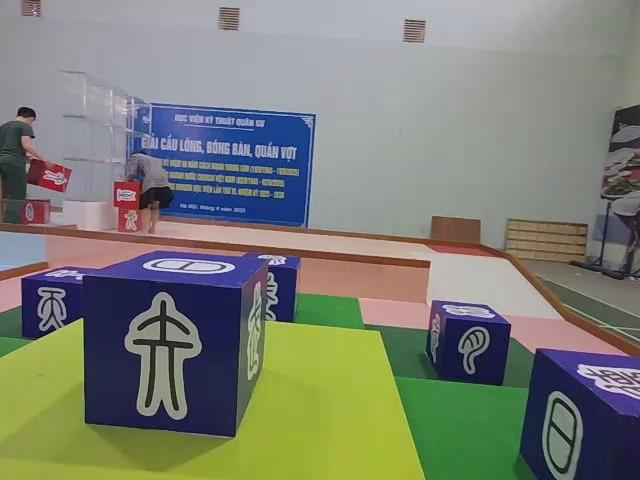R2 Fake Blue: (85, 250, 277, 441), (518, 349, 638, 480), (427, 300, 514, 386), (19, 261, 106, 342)
